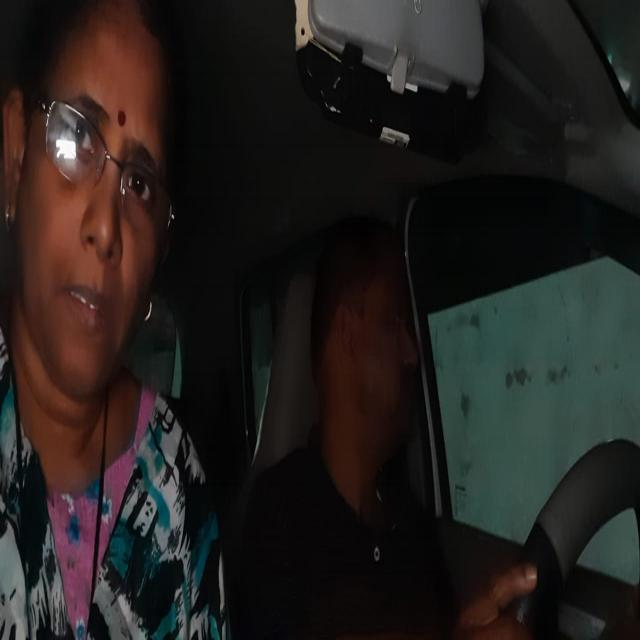person: (4, 2, 201, 400), (310, 196, 430, 497)
